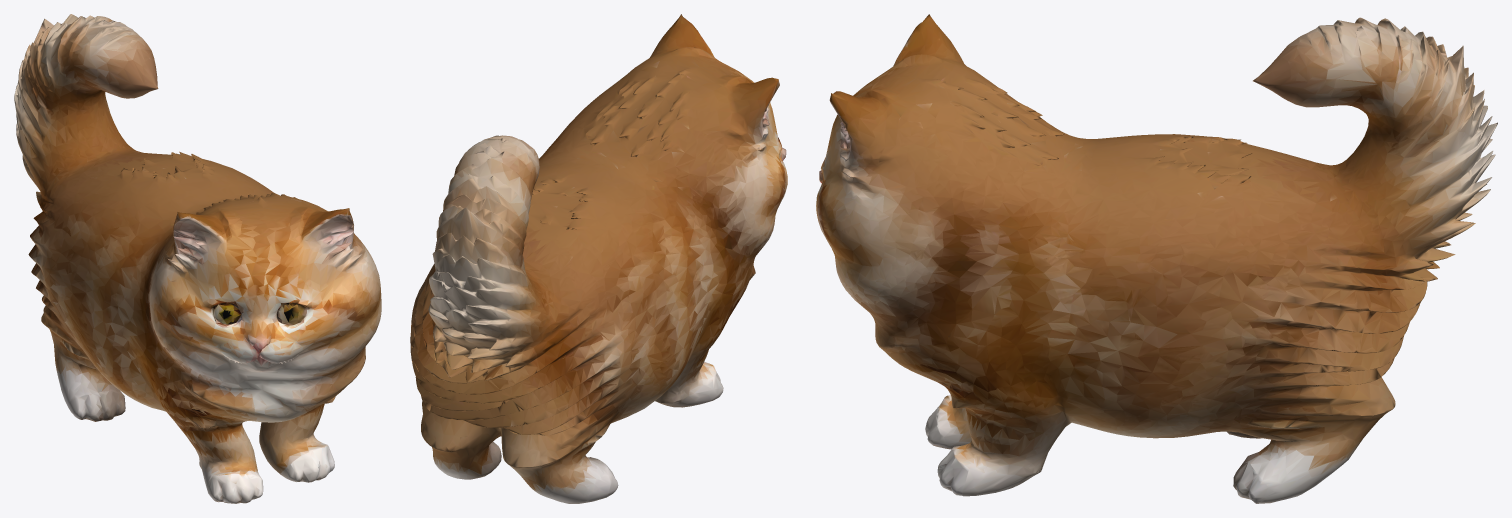
File: pet_orange.glb
3 renders of one model, left to right at view 1: azimuth 30°, elevation 25°; view 2: azimuth 150°, elevation 25°; view 3: azimuth 270°, elevation 25°, orthographic. The views are drawn at different scales.
Visible parts, largest first — view 1: orange; view 2: orange; view 3: orange.
Boxes of the visible parts, x1,y1,x2,y2 form: orange: (14,14,381,503); orange: (410,14,787,503); orange: (816,14,1497,503).
Size of the model in its own units: 0.6417 by 1 by 1.43.
Materials: 1 (1 with a texture image).
